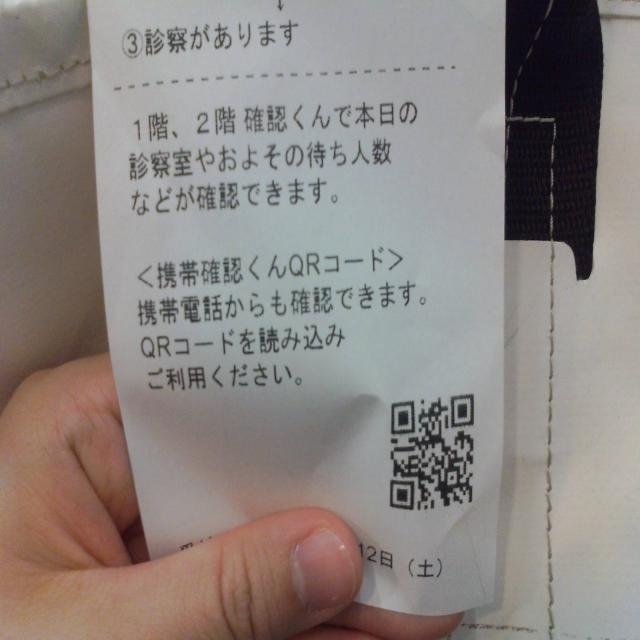qrcode: (391, 395, 475, 512)
